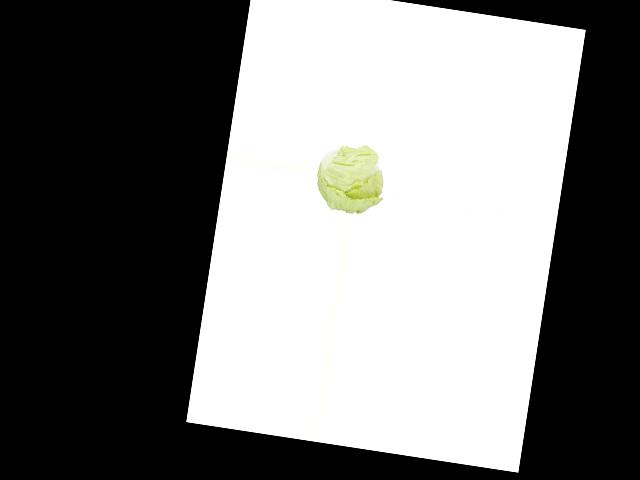lettuce: (310, 141, 388, 217)
